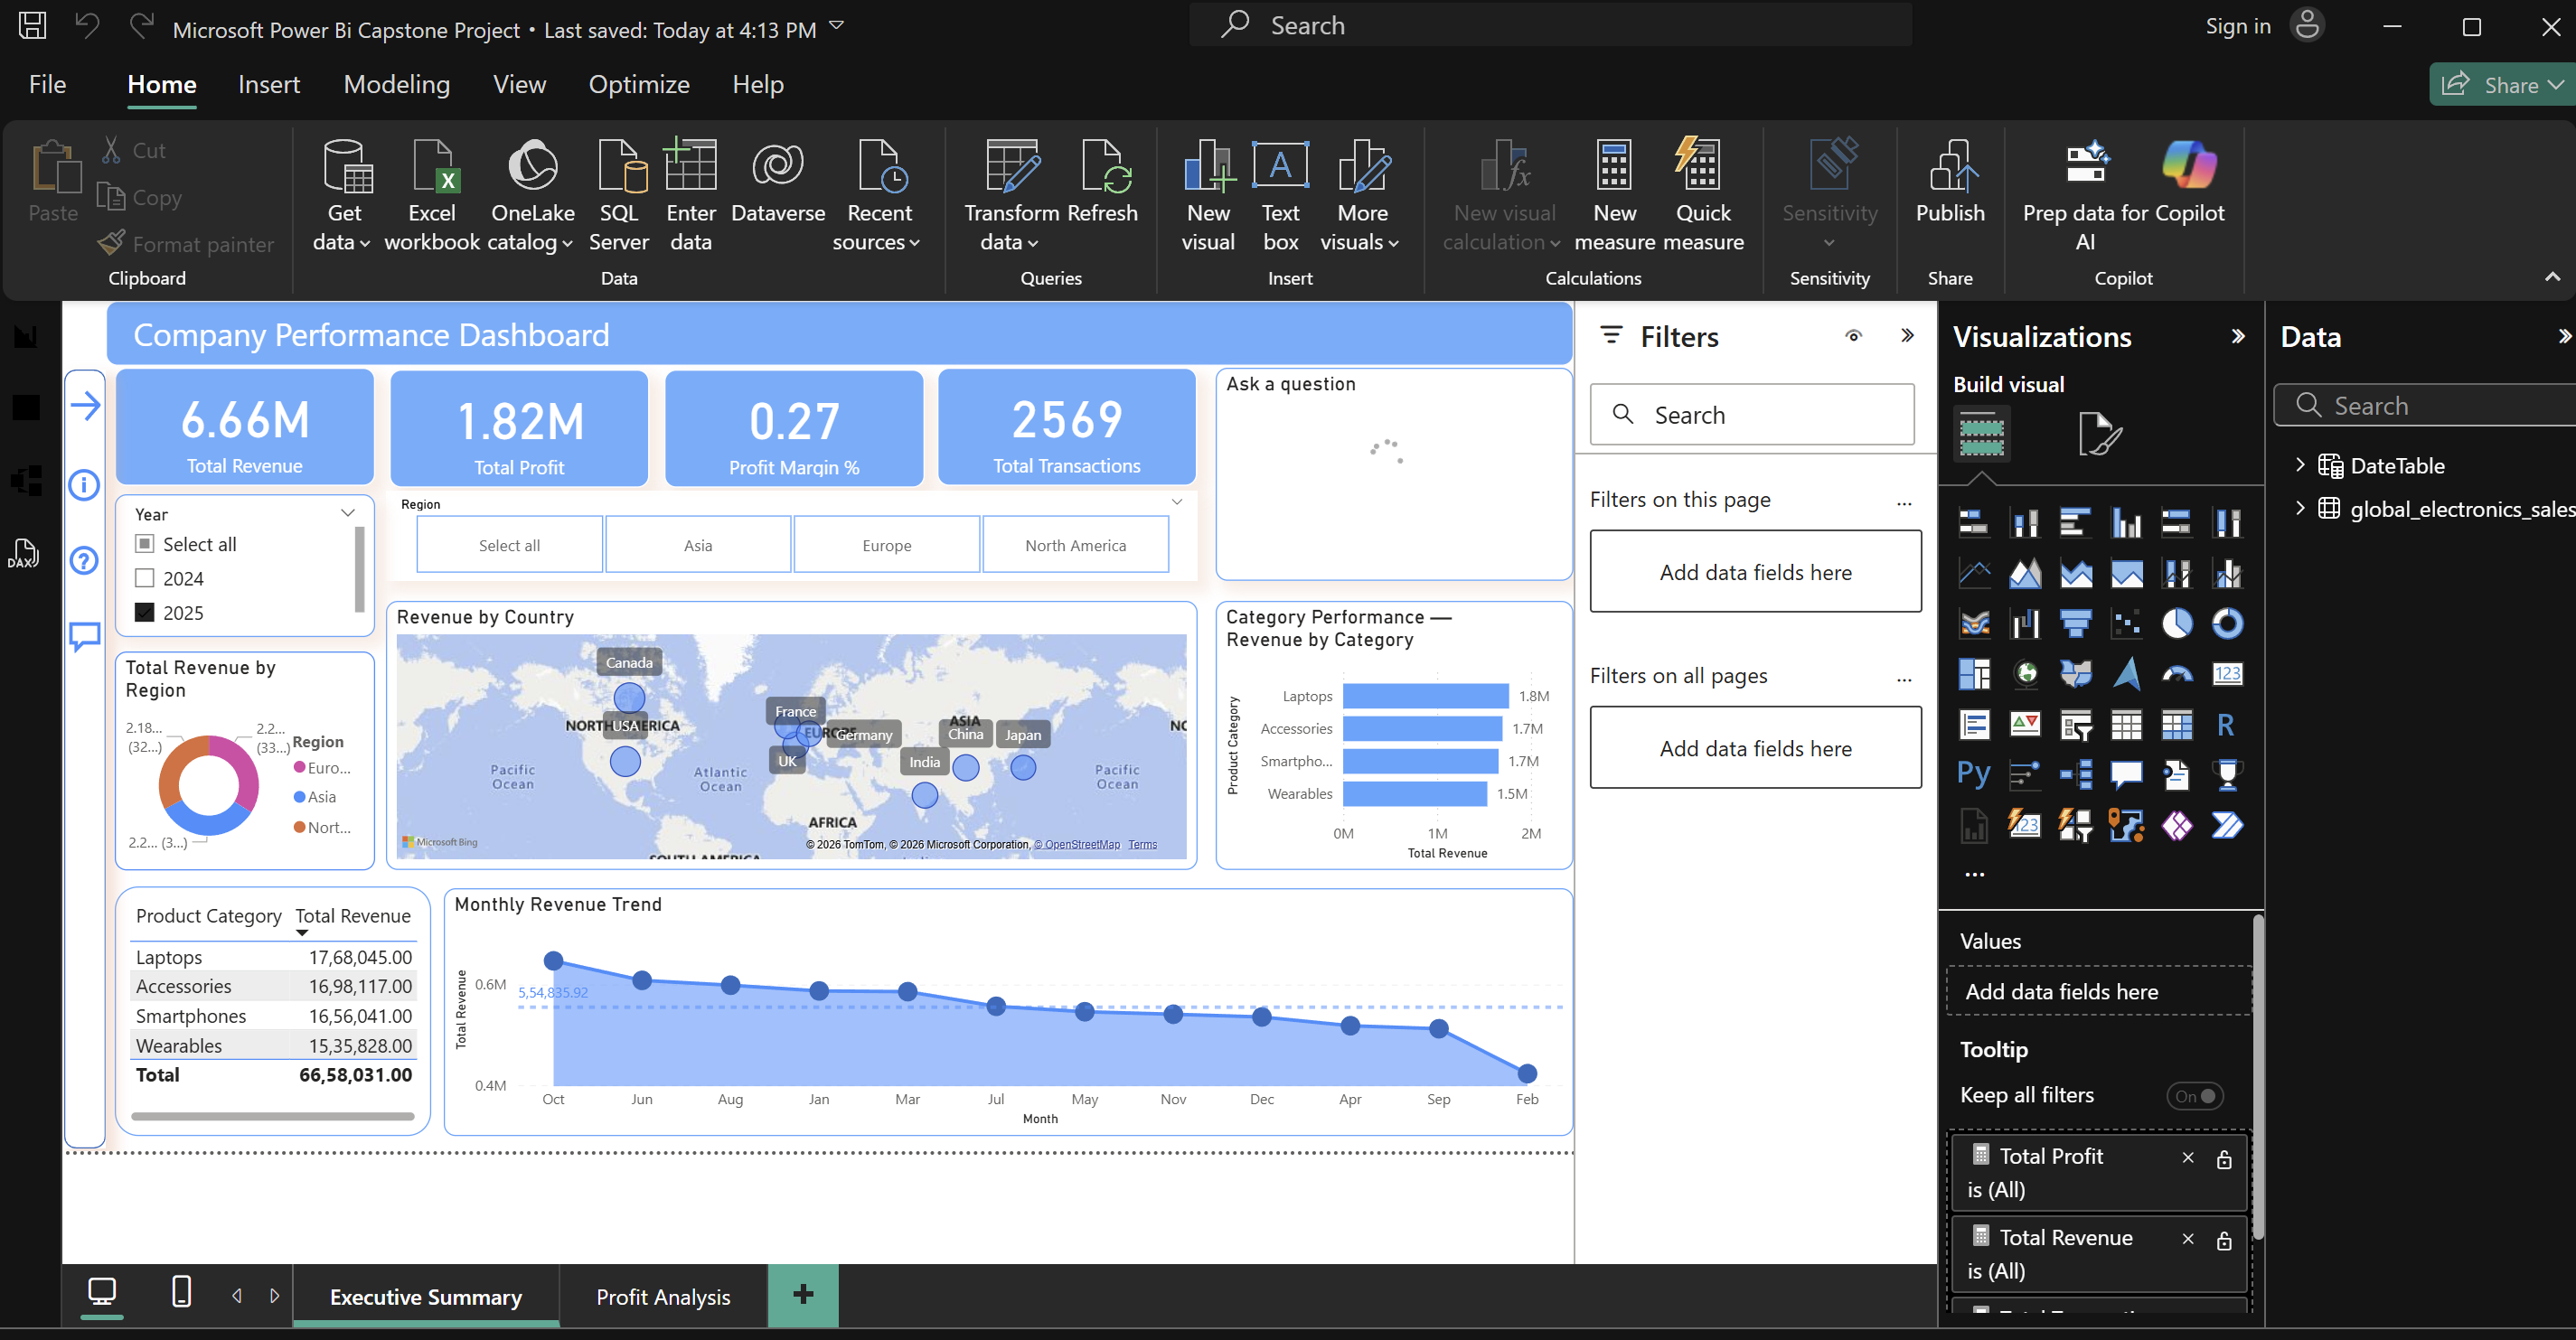

The page's visual inventory and layout, read from the dashboard file:
{"tool":"powerbi","page":{"name":"Executive Summary","canvas":[1280,720],"ordinal":0},"visuals":[{"type":"card","fields":{"Values":["DateTable.Total Revenue"]},"box":[44.4,56.7,220.5,100],"z":0},{"type":"textbox","box":[36.7,0,1243.3,55.1],"z":1000},{"type":"card","fields":{"Values":["DateTable.Total Profit"]},"box":[277.1,58.2,220,100],"z":2000},{"type":"card","fields":{"Values":["DateTable.Profit Margin %"]},"box":[509.9,58.2,220.5,100],"z":3000},{"type":"card","fields":{"Values":["DateTable.Total Transactions"]},"box":[741.1,56.7,220,100],"z":4000},{"type":"slicer","fields":{"Values":["global_electronics_sales.Region"]},"box":[274.1,160.8,687.5,76.6],"z":5000},{"type":"lineChart","title":"Monthly Revenue Trend","fields":{"Category":["DateTable.Month"],"Y":["DateTable.Total Revenue"]},"box":[323.1,497.6,956.9,209.8],"z":6000},{"type":"map","title":"Revenue by Country","fields":{"Category":["global_electronics_sales.Country"],"Size":["DateTable.Total Revenue"]},"box":[274.1,254.2,687.5,228.1],"z":7000},{"type":"clusteredBarChart","title":"Category Performance — Revenue by Category","fields":{"Category":["global_electronics_sales.Product Category"],"Y":["DateTable.Total Revenue"]},"box":[976.8,254.2,303.2,228.1],"z":8000},{"type":"tableEx","fields":{"Values":["global_electronics_sales.Product Category","DateTable.Total Revenue"]},"box":[44.4,496.1,267.9,211.3],"z":9000},{"type":"qnaVisual","title":"Ask a question","box":[976.8,56.7,303.2,180.7],"z":10000},{"type":"slicer","fields":{"Values":["DateTable.Year"]},"box":[44.4,163.8,220.5,121],"z":11000},{"type":"shape","box":[1.5,58.2,35.2,659.9],"z":12000},{"type":"actionButton","box":[0,133.2,36.7,45.9],"z":13000},{"type":"actionButton","box":[1.5,68.9,35.2,39.8],"z":14000},{"type":"actionButton","box":[1.5,264.9,35.2,39.8],"z":15000},{"type":"actionButton","box":[1.5,199,33.7,41.3],"z":16000},{"type":"donutChart","fields":{"Category":["global_electronics_sales.Region","global_electronics_sales.Product Category"],"Y":["DateTable.Total Revenue"]},"box":[44.4,297,220.5,185.3],"z":17000}]}

Visuals, with their boxes on the page's 1280x720 design canvas (x1, y1, x2, y2). These are canvas units, not pixel positions in the 2576x1340 screenshot, which may show the page scaled, cropped or inside an application window:
card - DateTable.Total Revenue: bbox=[44, 57, 265, 157]
textbox: bbox=[37, 0, 1280, 55]
card - DateTable.Total Profit: bbox=[277, 58, 497, 158]
card - DateTable.Profit Margin %: bbox=[510, 58, 730, 158]
card - DateTable.Total Transactions: bbox=[741, 57, 961, 157]
slicer - global_electronics_sales.Region: bbox=[274, 161, 962, 237]
"Monthly Revenue Trend" lineChart: bbox=[323, 498, 1280, 707]
"Revenue by Country" map: bbox=[274, 254, 962, 482]
"Category Performance — Revenue by Category" clusteredBarChart: bbox=[977, 254, 1280, 482]
tableEx - global_electronics_sales.Product Category x DateTable.Total Revenue: bbox=[44, 496, 312, 707]
"Ask a question" qnaVisual: bbox=[977, 57, 1280, 237]
slicer - DateTable.Year: bbox=[44, 164, 265, 285]
shape: bbox=[2, 58, 37, 718]
actionButton: bbox=[0, 133, 37, 179]
actionButton: bbox=[2, 69, 37, 109]
actionButton: bbox=[2, 265, 37, 305]
actionButton: bbox=[2, 199, 35, 240]
donutChart - global_electronics_sales.Region x global_electronics_sales.Product Category: bbox=[44, 297, 265, 482]
